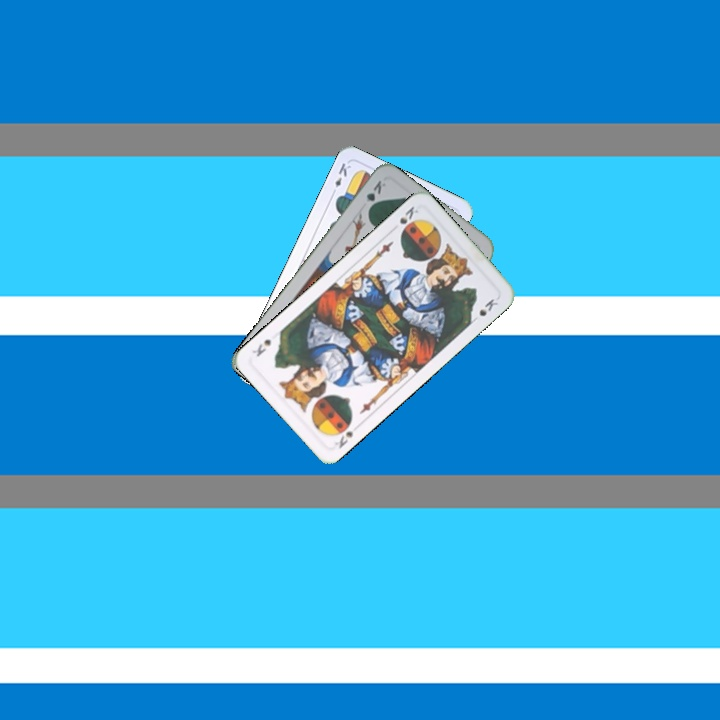EK: (327, 159, 353, 198)
GK: (362, 176, 388, 214)
SK: (395, 202, 421, 227), (330, 427, 356, 451)
